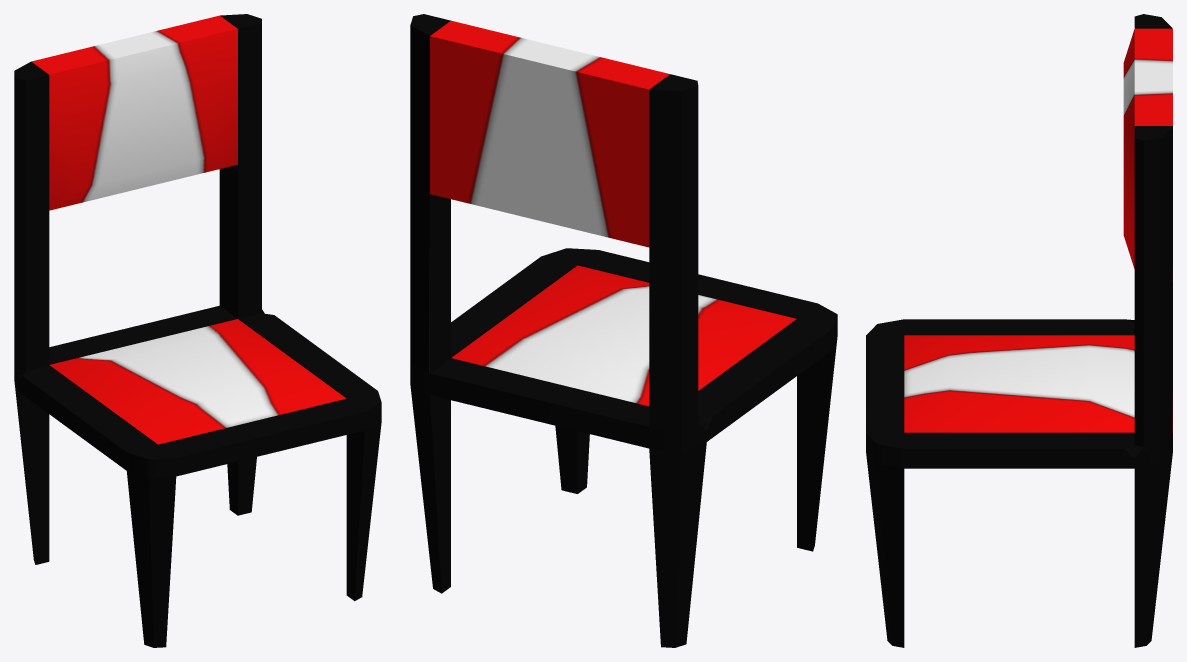
The model's file is maltChair.fbx.
The picture shows the model from 3 angles, left to right: view 1: azimuth 30°, elevation 25°; view 2: azimuth 150°, elevation 25°; view 3: azimuth 270°, elevation 25°; orthographic projection. The views are drawn at different scales.
Visible parts, largest first — view 1: maltChair; view 2: maltChair; view 3: maltChair.
Boxes of the visible parts, x1,y1,x2,y2 form: maltChair: (14, 14, 381, 647); maltChair: (410, 14, 837, 647); maltChair: (866, 14, 1172, 647).
Bounding box in the file's own units: 63.98 × 118 × 63.98.
1 material, 1 textured.
